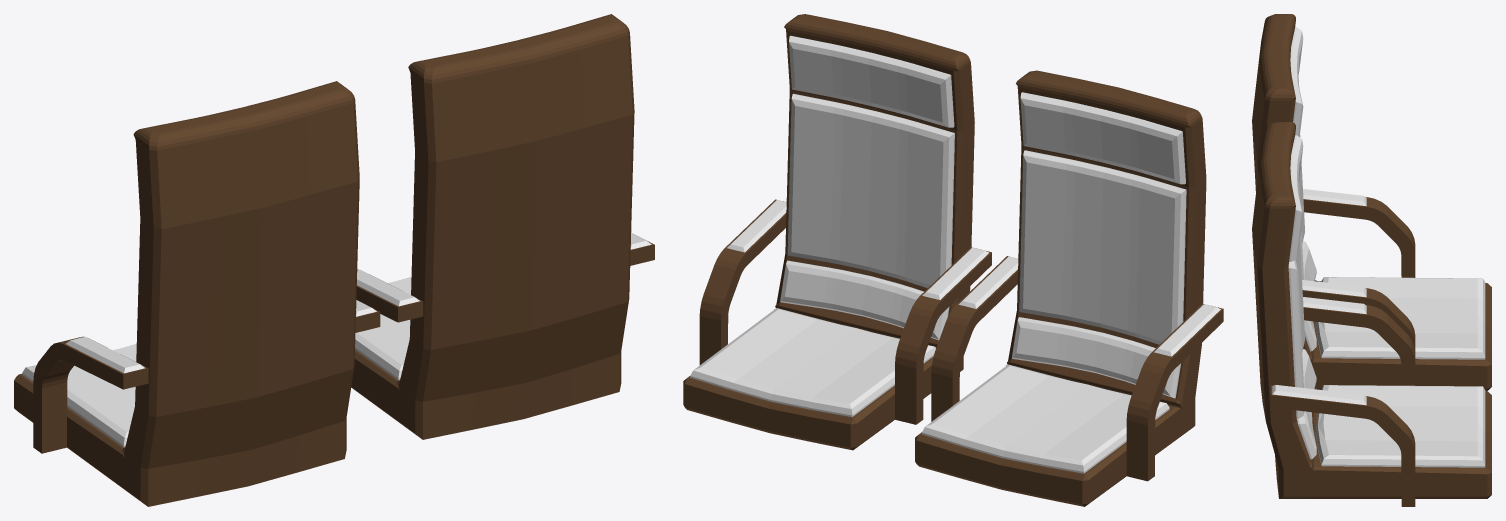
The model's file is Seats.fbx.
3 views of the same model, side by side, from view 1: azimuth 30°, elevation 25°; view 2: azimuth 150°, elevation 25°; view 3: azimuth 270°, elevation 25° (orthographic). The views are drawn at different scales.
Visible parts, largest first — view 1: Seat 1; view 2: Seat 1; view 3: Seat 1.
Part boxes in pixels (x1,y1,x2,y2): Seat 1: (14,14,654,506); Seat 1: (683,14,1223,506); Seat 1: (1252,14,1491,506).
Bounding box in the file's own units: 116 × 78.78 × 56.35.
